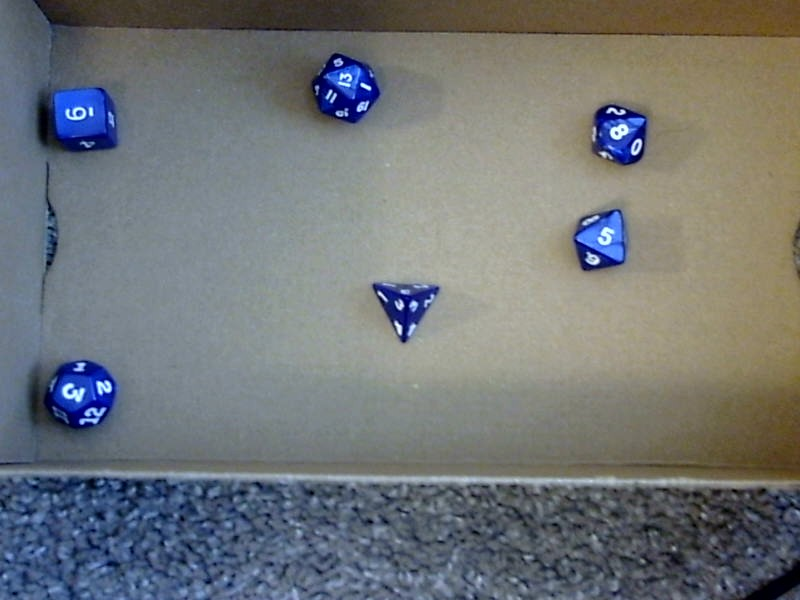d10 8: (587, 96, 648, 168)
d12 3: (41, 350, 117, 433)
d20 13: (306, 49, 381, 124)
d4 3: (366, 271, 440, 344)
d6 6: (49, 83, 119, 153)
d8 5: (569, 209, 630, 274)
